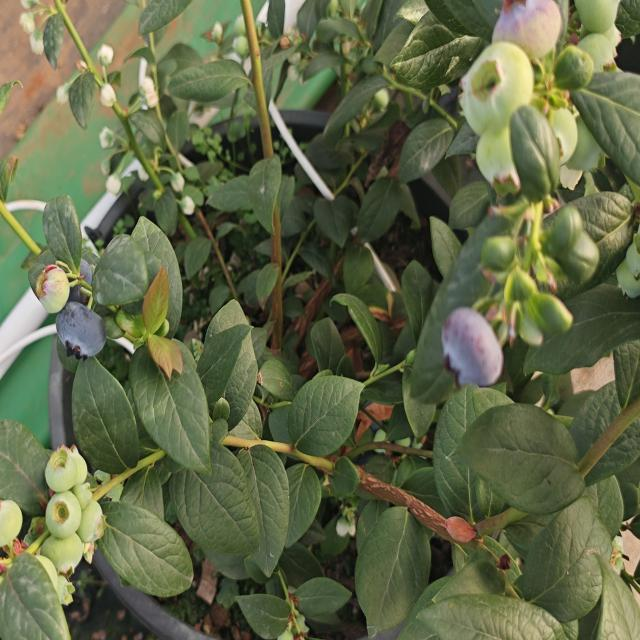ripe: (435, 294, 511, 394), (49, 299, 112, 360), (57, 248, 97, 312)
